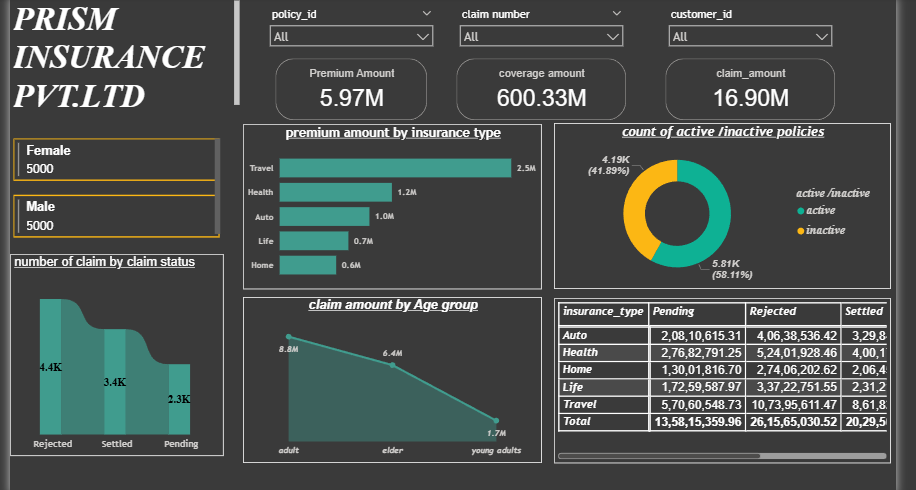

This screenshot's page, from the dashboard's own definition file:
{"tool":"powerbi","page":{"name":"Page 1","canvas":[1280,720],"ordinal":0},"visuals":[{"type":"slicer","fields":{"Values":["public insurance.claim number"]},"box":[640.5,10.1,255.9,73.7],"z":0},{"type":"slicer","fields":{"Values":["public insurance.policy_id"]},"box":[365.8,10.1,255.9,73.7],"z":1000},{"type":"slicer","fields":{"Values":["public insurance.customer_id"]},"box":[942.7,10.1,255.9,73.7],"z":2000},{"type":"textbox","box":[0,0,336.9,167.7],"z":3000},{"type":"cardVisual","fields":{"Data":["Sum(public insurance.premium amount)"]},"box":[378.8,83.9,229.9,99.8],"z":4000},{"type":"cardVisual","fields":{"Data":["Sum(public insurance.coverage amount)"]},"box":[640.5,83.9,255.9,99.8],"z":5000},{"type":"cardVisual","fields":{"Data":["Sum(public insurance.claim_amount)"]},"box":[942.7,83.9,255.9,99.8],"z":6000},{"type":"multiRowCard","fields":{"Values":["public insurance.gender","CountNonNull(public insurance.gender)"]},"box":[0,199.5,309.4,160.5],"z":7000},{"type":"ribbonChart","title":"number of claim by claim status","fields":{"Category":["public insurance.claim status"],"Y":["CountNonNull(public insurance.claim status)"]},"box":[0,371.6,309.4,292],"z":8000},{"type":"barChart","title":" premium amount by insurance type","fields":{"Category":["public insurance.insurance_type"],"Y":["Sum(public insurance.premium amount)"]},"box":[336.9,183.6,432.3,238.6],"z":9000},{"type":"lineChart","title":" claim amount by Age group","fields":{"Category":["public insurance.Age group"],"Y":["Sum(public insurance.claim_amount)"]},"box":[336.9,433.7,432.3,240],"z":10000},{"type":"donutChart","title":"count  of active /inactive  policies","fields":{"Category":["public insurance.active /inactive"],"Y":["CountNonNull(public insurance.active /inactive)"]},"box":[786.5,182.2,487.2,240],"z":11000},{"type":"pivotTable","fields":{"Rows":["public insurance.insurance_type"],"Values":["Sum(public insurance.coverage amount)"],"Columns":["public insurance.claim status"]},"box":[786.5,435.2,487.2,238.6],"z":12000}]}

Visuals, with their boxes on the page's 1280x720 design canvas (x1, y1, x2, y2). These are canvas units, not pixel positions in the 916x490 screenshot, which may show the page scaled, cropped or inside an application window:
slicer - public insurance.claim number: 640 10 896 84
slicer - public insurance.policy_id: 366 10 622 84
slicer - public insurance.customer_id: 943 10 1199 84
textbox: 0 0 337 168
cardVisual - Sum(public insurance.premium amount): 379 84 609 184
cardVisual - Sum(public insurance.coverage amount): 640 84 896 184
cardVisual - Sum(public insurance.claim_amount): 943 84 1199 184
multiRowCard - public insurance.gender x CountNonNull(public insurance.gender): 0 200 309 360
"number of claim by claim status" ribbonChart: 0 372 309 664
" premium amount by insurance type" barChart: 337 184 769 422
" claim amount by Age group" lineChart: 337 434 769 674
"count  of active /inactive  policies" donutChart: 786 182 1274 422
pivotTable - public insurance.insurance_type x Sum(public insurance.coverage amount): 786 435 1274 674
